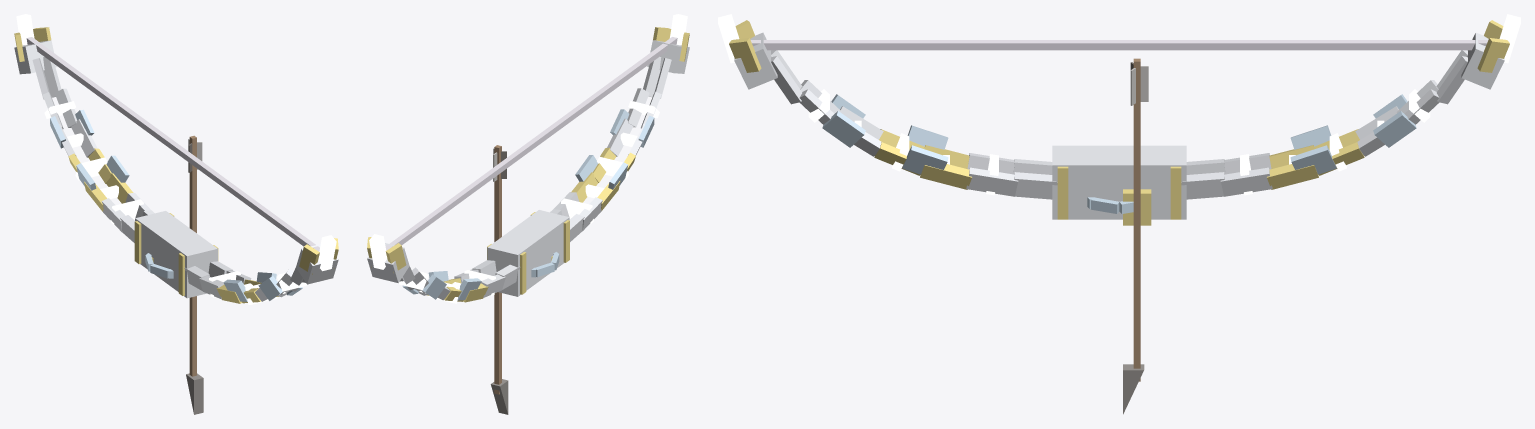
Rendered from art_infinity_genesis_bow.fbx.
The picture shows the model from 3 angles, left to right: view 1: azimuth 30°, elevation 25°; view 2: azimuth 150°, elevation 25°; view 3: azimuth 270°, elevation 25°; orthographic projection. The views are drawn at different scales.
Visible parts, largest first — view 1: Handle, BowString, ArrowShaft, CrownU_Base, CrownL_Base, ArrowHead, CrownL_Pinnacle, MobiusUF_7, MobiusUF_5, CrownU_Pinnacle, MobiusUF_6, MobiusUR_2 (+12 smaller); view 2: Handle, BowString, ArrowShaft, CrownL_Base, CrownU_Base, CrownU_Pinnacle, ArrowHead, MobiusLF_7, MobiusLF_5, CrownL_Pinnacle, MobiusLF_6, MobiusLR_2 (+10 smaller); view 3: BowString, Handle, ArrowShaft, CrownL_Base, CrownU_Base, MobiusLF_2, MobiusUF_2, MobiusLF_1, MobiusUF_1, MobiusLF_3, MobiusUF_3, ChronoFinL_3 (+4 smaller).
Boxes of the visible parts, bbox=[...] form: Handle: bbox=[135, 211, 217, 298]; BowString: bbox=[26, 37, 319, 251]; ArrowShaft: bbox=[189, 135, 196, 376]; CrownU_Base: bbox=[14, 40, 56, 74]; CrownL_Base: bbox=[296, 244, 338, 284]; ArrowHead: bbox=[186, 373, 203, 414]; CrownL_Pinnacle: bbox=[318, 235, 336, 271]; MobiusUF_7: bbox=[43, 57, 61, 97]; MobiusUF_5: bbox=[71, 119, 97, 157]; CrownU_Pinnacle: bbox=[16, 14, 34, 45]; MobiusUF_6: bbox=[54, 88, 76, 127]; MobiusUR_2: bbox=[101, 198, 125, 231]; Handle: bbox=[487, 210, 569, 296]; BowString: bbox=[385, 37, 677, 250]; ArrowShaft: bbox=[494, 145, 501, 394]; CrownL_Base: bbox=[647, 40, 689, 73]; CrownU_Base: bbox=[367, 243, 409, 283]; CrownU_Pinnacle: bbox=[369, 234, 387, 269]; ArrowHead: bbox=[490, 379, 508, 414]; MobiusLF_7: bbox=[643, 56, 661, 97]; MobiusLF_5: bbox=[607, 118, 633, 156]; CrownL_Pinnacle: bbox=[670, 14, 687, 45]; MobiusLF_6: bbox=[627, 88, 649, 127]; MobiusLR_2: bbox=[579, 197, 602, 230]; BowString: bbox=[750, 40, 1488, 50]; Handle: bbox=[1052, 145, 1186, 219]; ArrowShaft: bbox=[1133, 58, 1140, 381]; CrownL_Base: bbox=[734, 32, 777, 89]; CrownU_Base: bbox=[1461, 32, 1504, 89]; MobiusLF_2: bbox=[966, 167, 1018, 196]; MobiusUF_2: bbox=[1220, 167, 1272, 196]; MobiusLF_1: bbox=[1014, 172, 1057, 199]; MobiusUF_1: bbox=[1181, 172, 1224, 199]; MobiusLF_3: bbox=[920, 164, 971, 189]; MobiusUF_3: bbox=[1267, 164, 1318, 189]; ChronoFinL_3: bbox=[822, 111, 865, 147].
Bounding box in the file's own units: 0.487 × 2.38 × 4.55.
